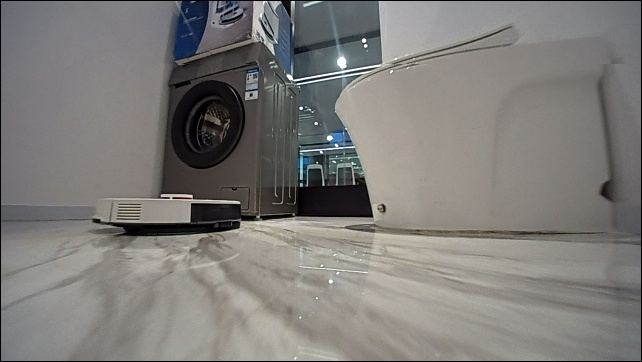toilet: (335, 21, 622, 235)
washing_machine: (160, 45, 301, 217)
